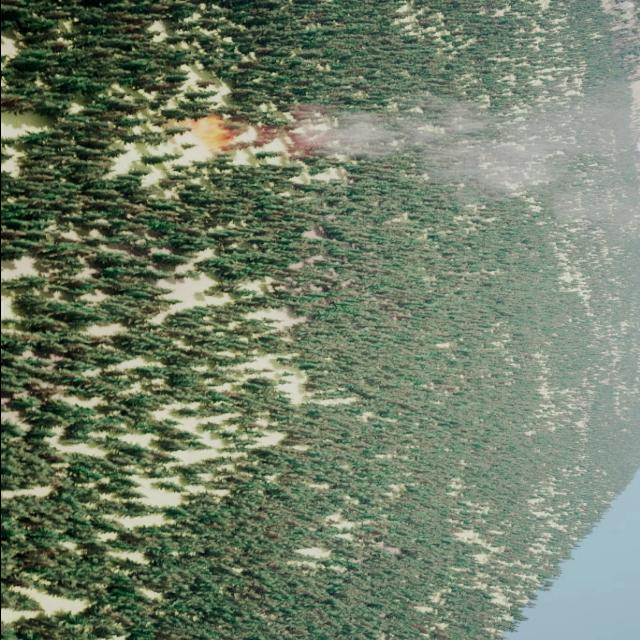fire: (183, 113, 230, 153)
smoke: (249, 92, 640, 220)
